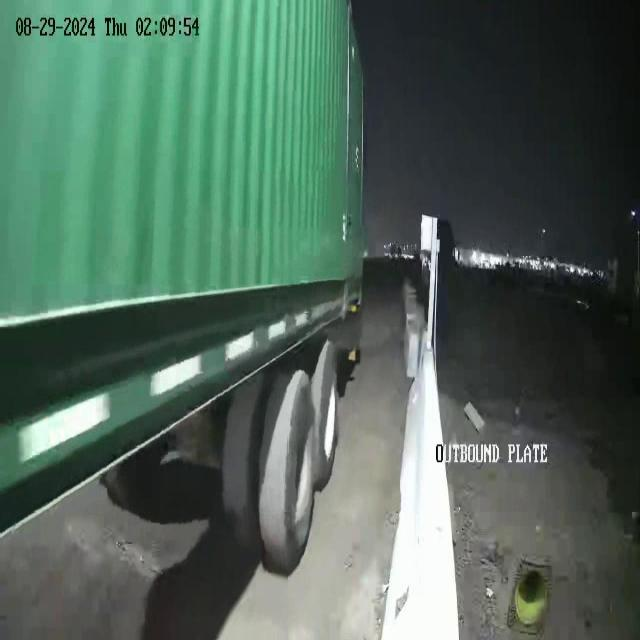CONTAINER: (0, 10, 376, 530)
